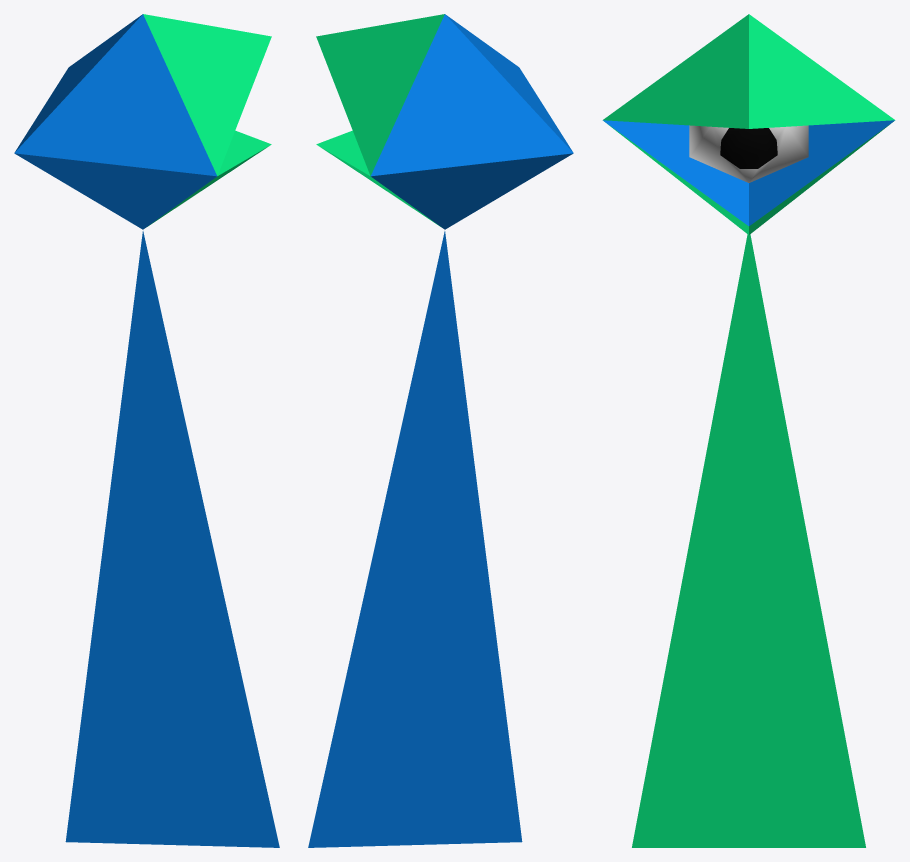
File: alienBeingO.glb
The picture shows the model from 3 angles, left to right: view 1: azimuth 30°, elevation 25°; view 2: azimuth 150°, elevation 25°; view 3: azimuth 270°, elevation 25°; orthographic projection.
Visible parts, largest first — view 1: body; view 2: body; view 3: body, eye.
Boxes of the visible parts, x1,y1,x2,y2 form: body: [14, 14, 279, 847]; body: [308, 14, 573, 847]; body: [602, 14, 895, 847]; eye: [689, 125, 808, 182].
Size of the model in its own units: 0.5 by 1.5 by 0.5.
